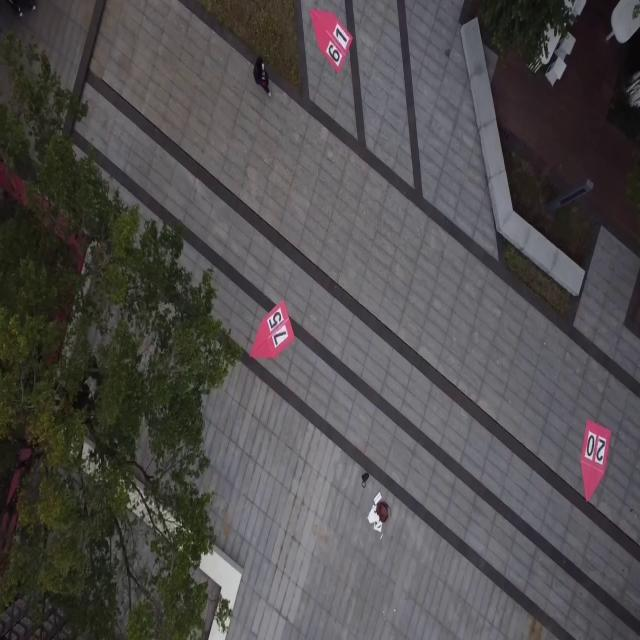-sign-: (310, 7, 354, 75), (249, 298, 295, 362), (580, 420, 611, 503)
